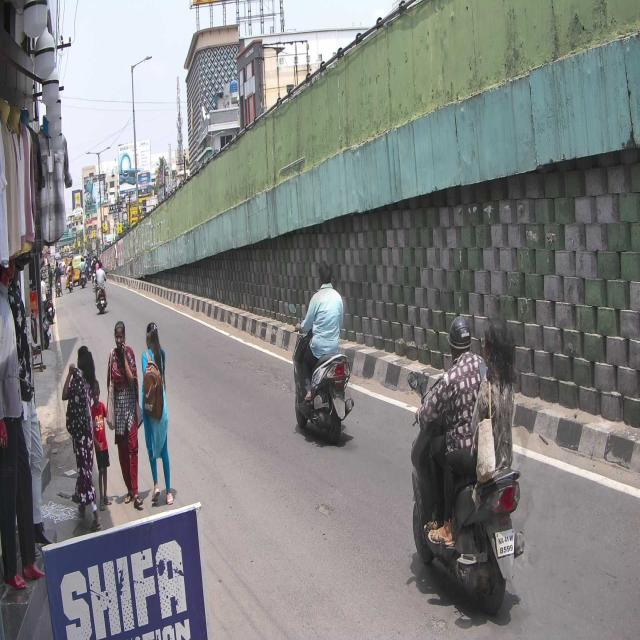double_rider: (410, 308, 525, 619)
single_rider: (291, 259, 353, 446)
